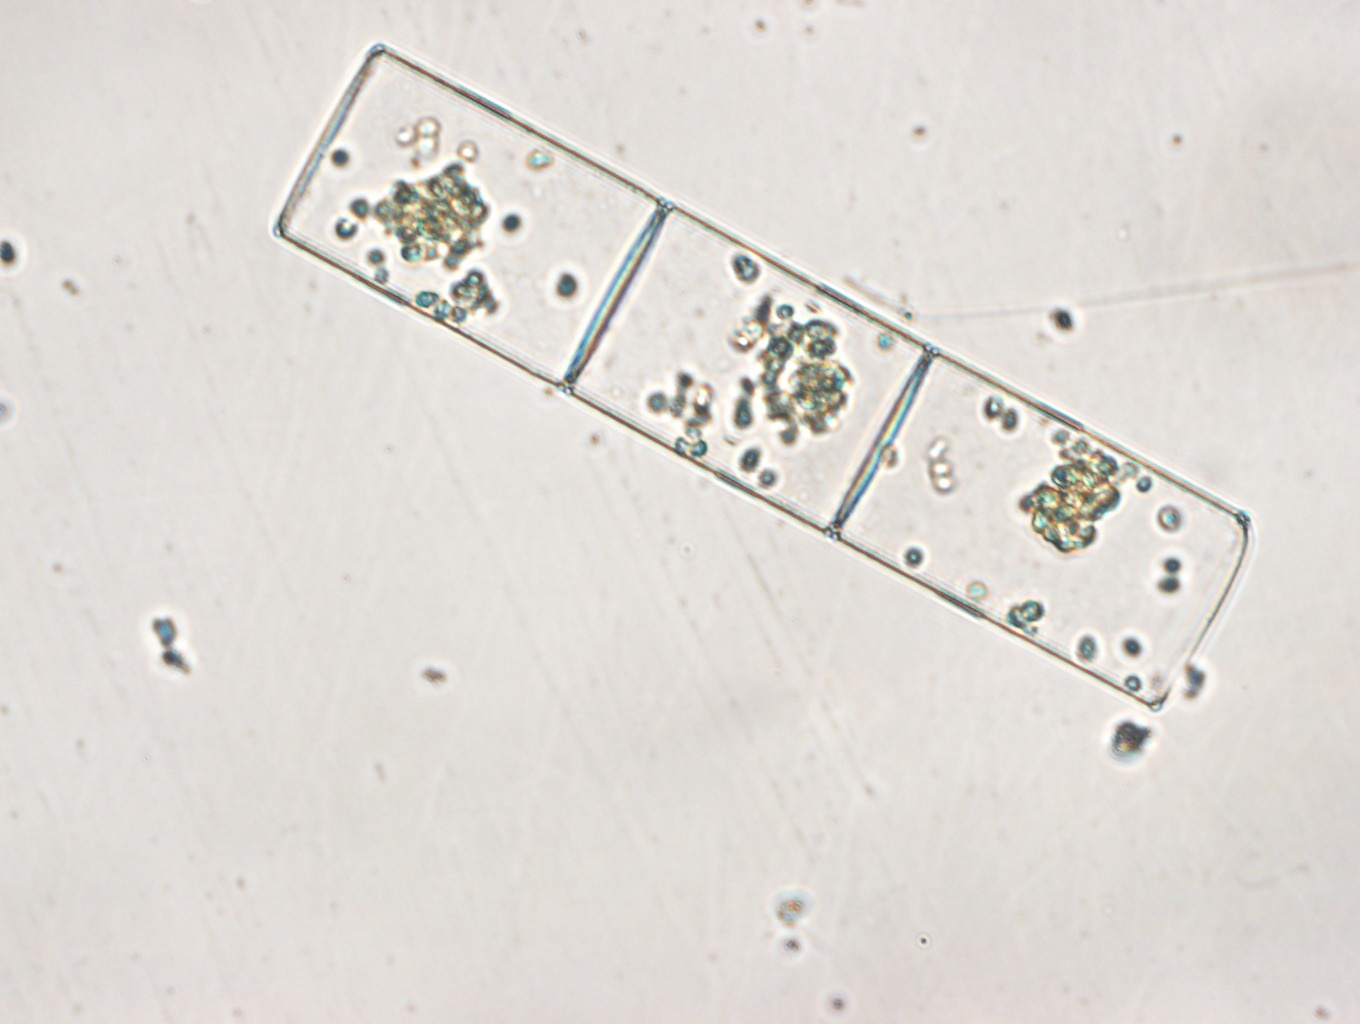guinardia flaccida: (267, 48, 1261, 715)
